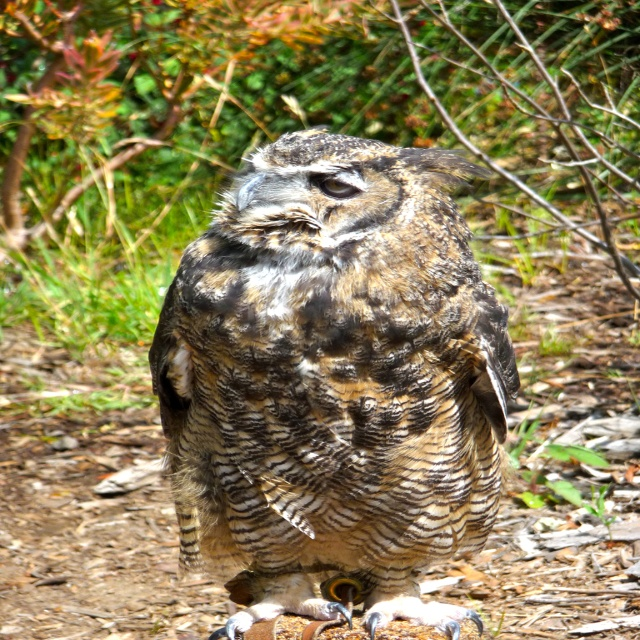Owl: (148, 124, 520, 640)
